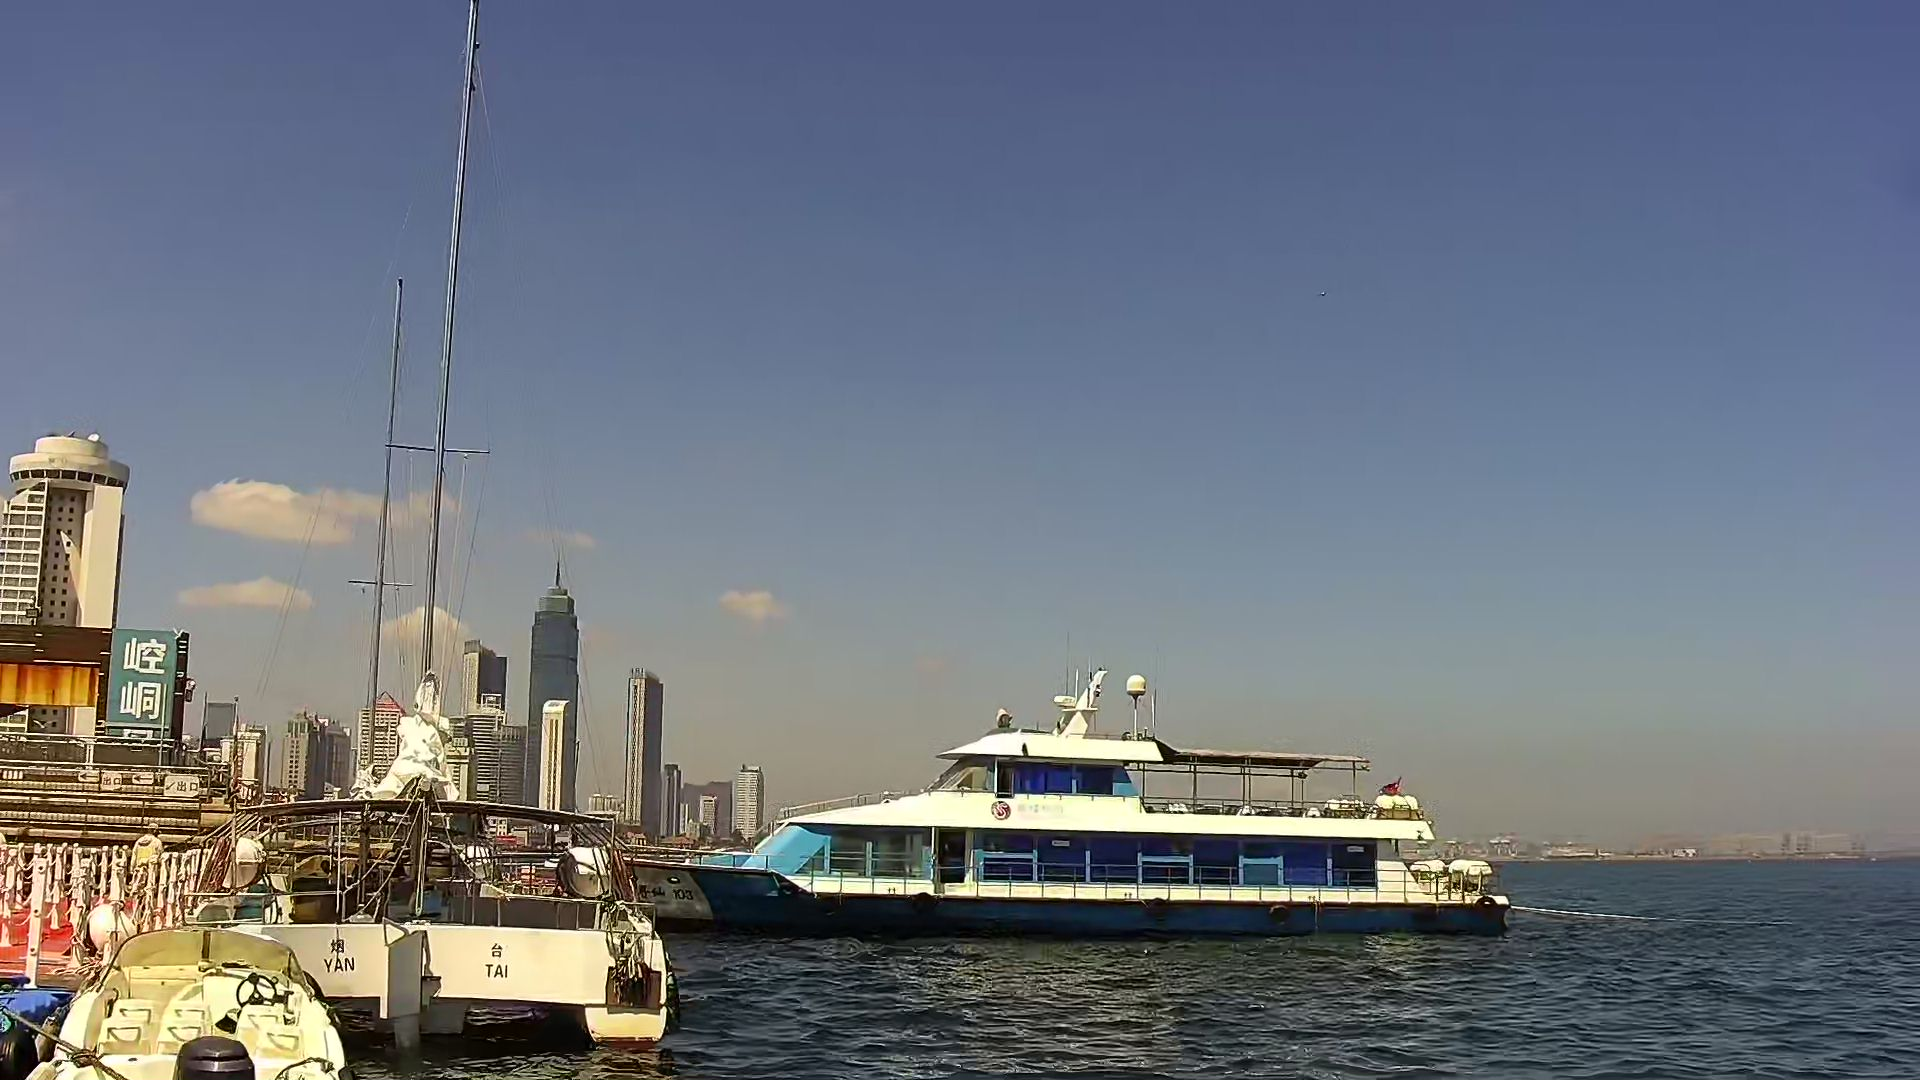boat: (210, 30, 683, 1055)
ship: (636, 679, 1519, 936)
